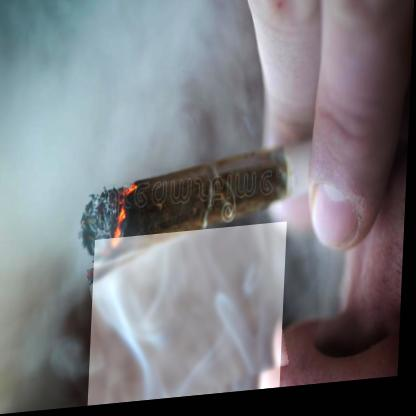smoke: (91, 227, 289, 408)
